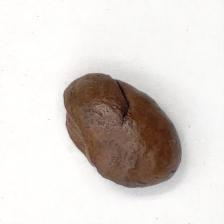NG: (64, 90, 101, 174), (107, 73, 135, 128)
